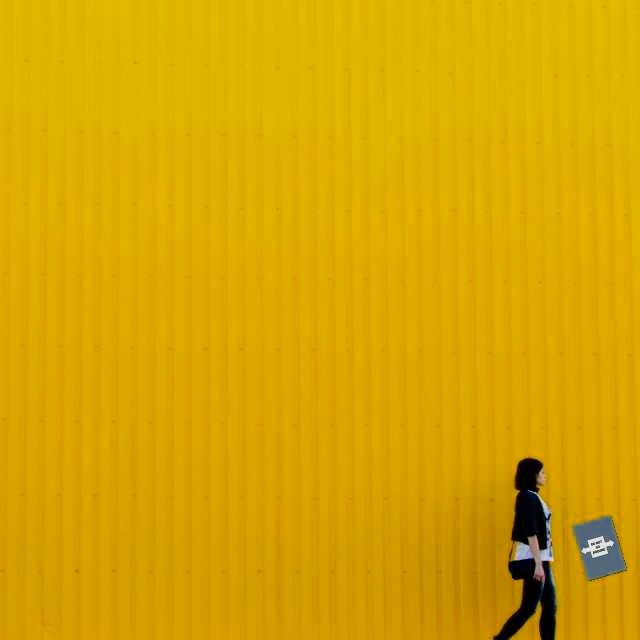DO_NOT_GO_AROUND: (578, 533, 617, 561)
